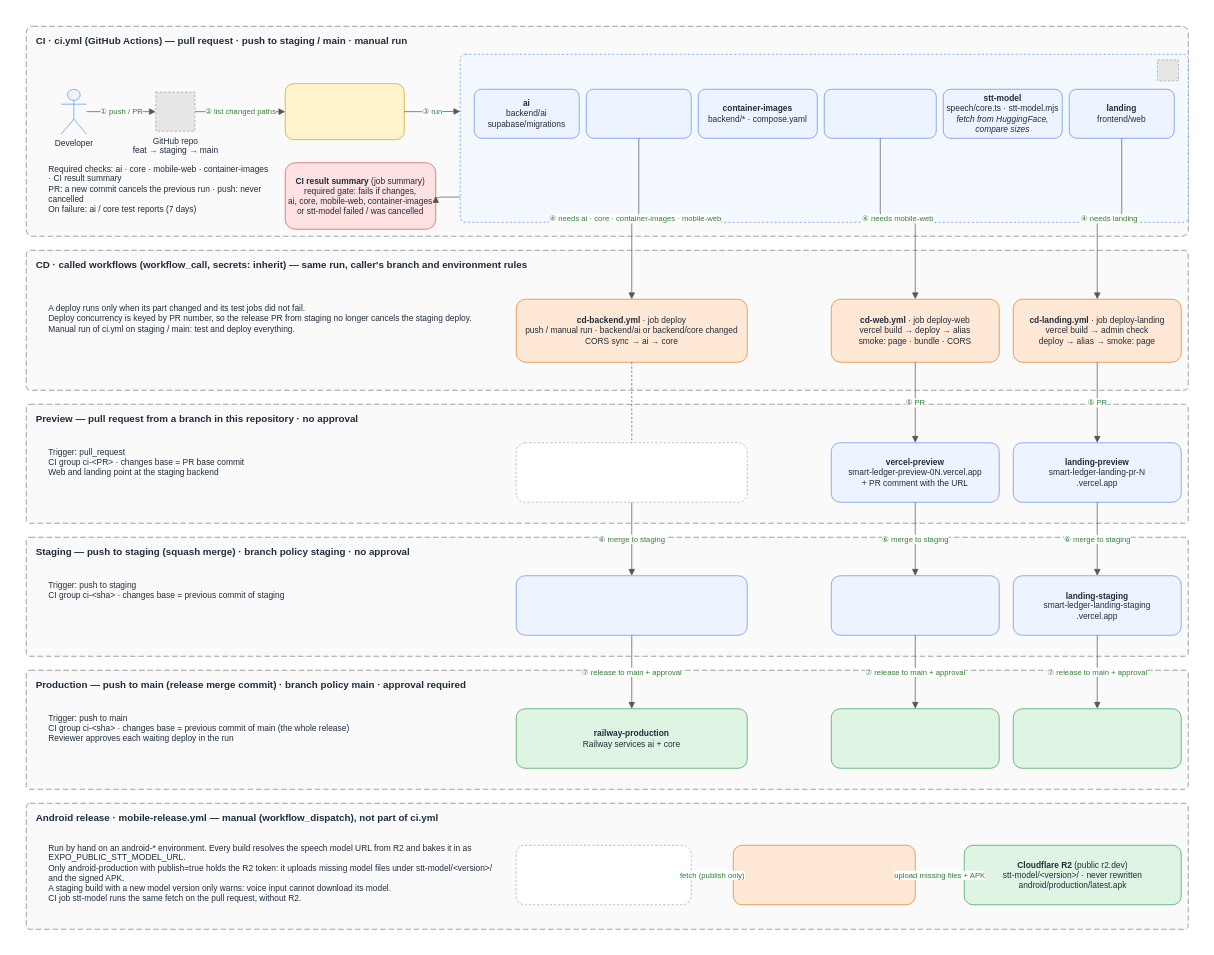
This 1214x955 diagram has some shape labels left out. Grey dashed boxes stand in for pictures. Each missing label, with the box of its shape:
changes path filter git diff base..HEAD: (285, 83, 404, 140)
core backend/core: (586, 89, 691, 138)
HuggingFace pinned revision in stt-model.mjs about 51 MB, 4 files: (516, 845, 691, 905)
landing-production smart-ledger-landing.vercel.app: (1013, 708, 1181, 768)
mobile-release.yml · job android resolve model URL → build APK (publish) or AAB: (733, 845, 915, 905)
mobile-web frontend/mobile: (824, 89, 936, 138)
no backend deploy on a pull request: (516, 442, 747, 502)
railway-staging Railway services ai + core: (516, 575, 747, 635)
Test jobs — each runs only when its path changed; a skipped job counts as passed: (460, 54, 1188, 222)
vercel-production smart-ledger-prod.vercel.app: (831, 708, 999, 768)
vercel-staging smart-ledger-staging.vercel.app: (831, 575, 999, 635)
